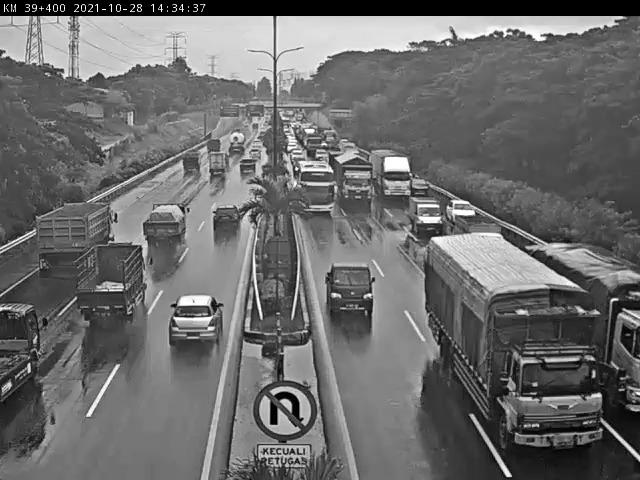big bus: (292, 158, 337, 216)
big truck: (427, 230, 608, 451), (528, 238, 640, 411), (371, 149, 413, 199), (335, 154, 373, 203)
car: (168, 294, 224, 350), (323, 261, 377, 314), (409, 195, 443, 234), (212, 205, 245, 234), (447, 199, 480, 226), (180, 151, 201, 173), (238, 157, 257, 174)
small truck: (73, 239, 155, 327), (35, 202, 118, 276), (143, 202, 193, 244), (207, 153, 226, 178)
